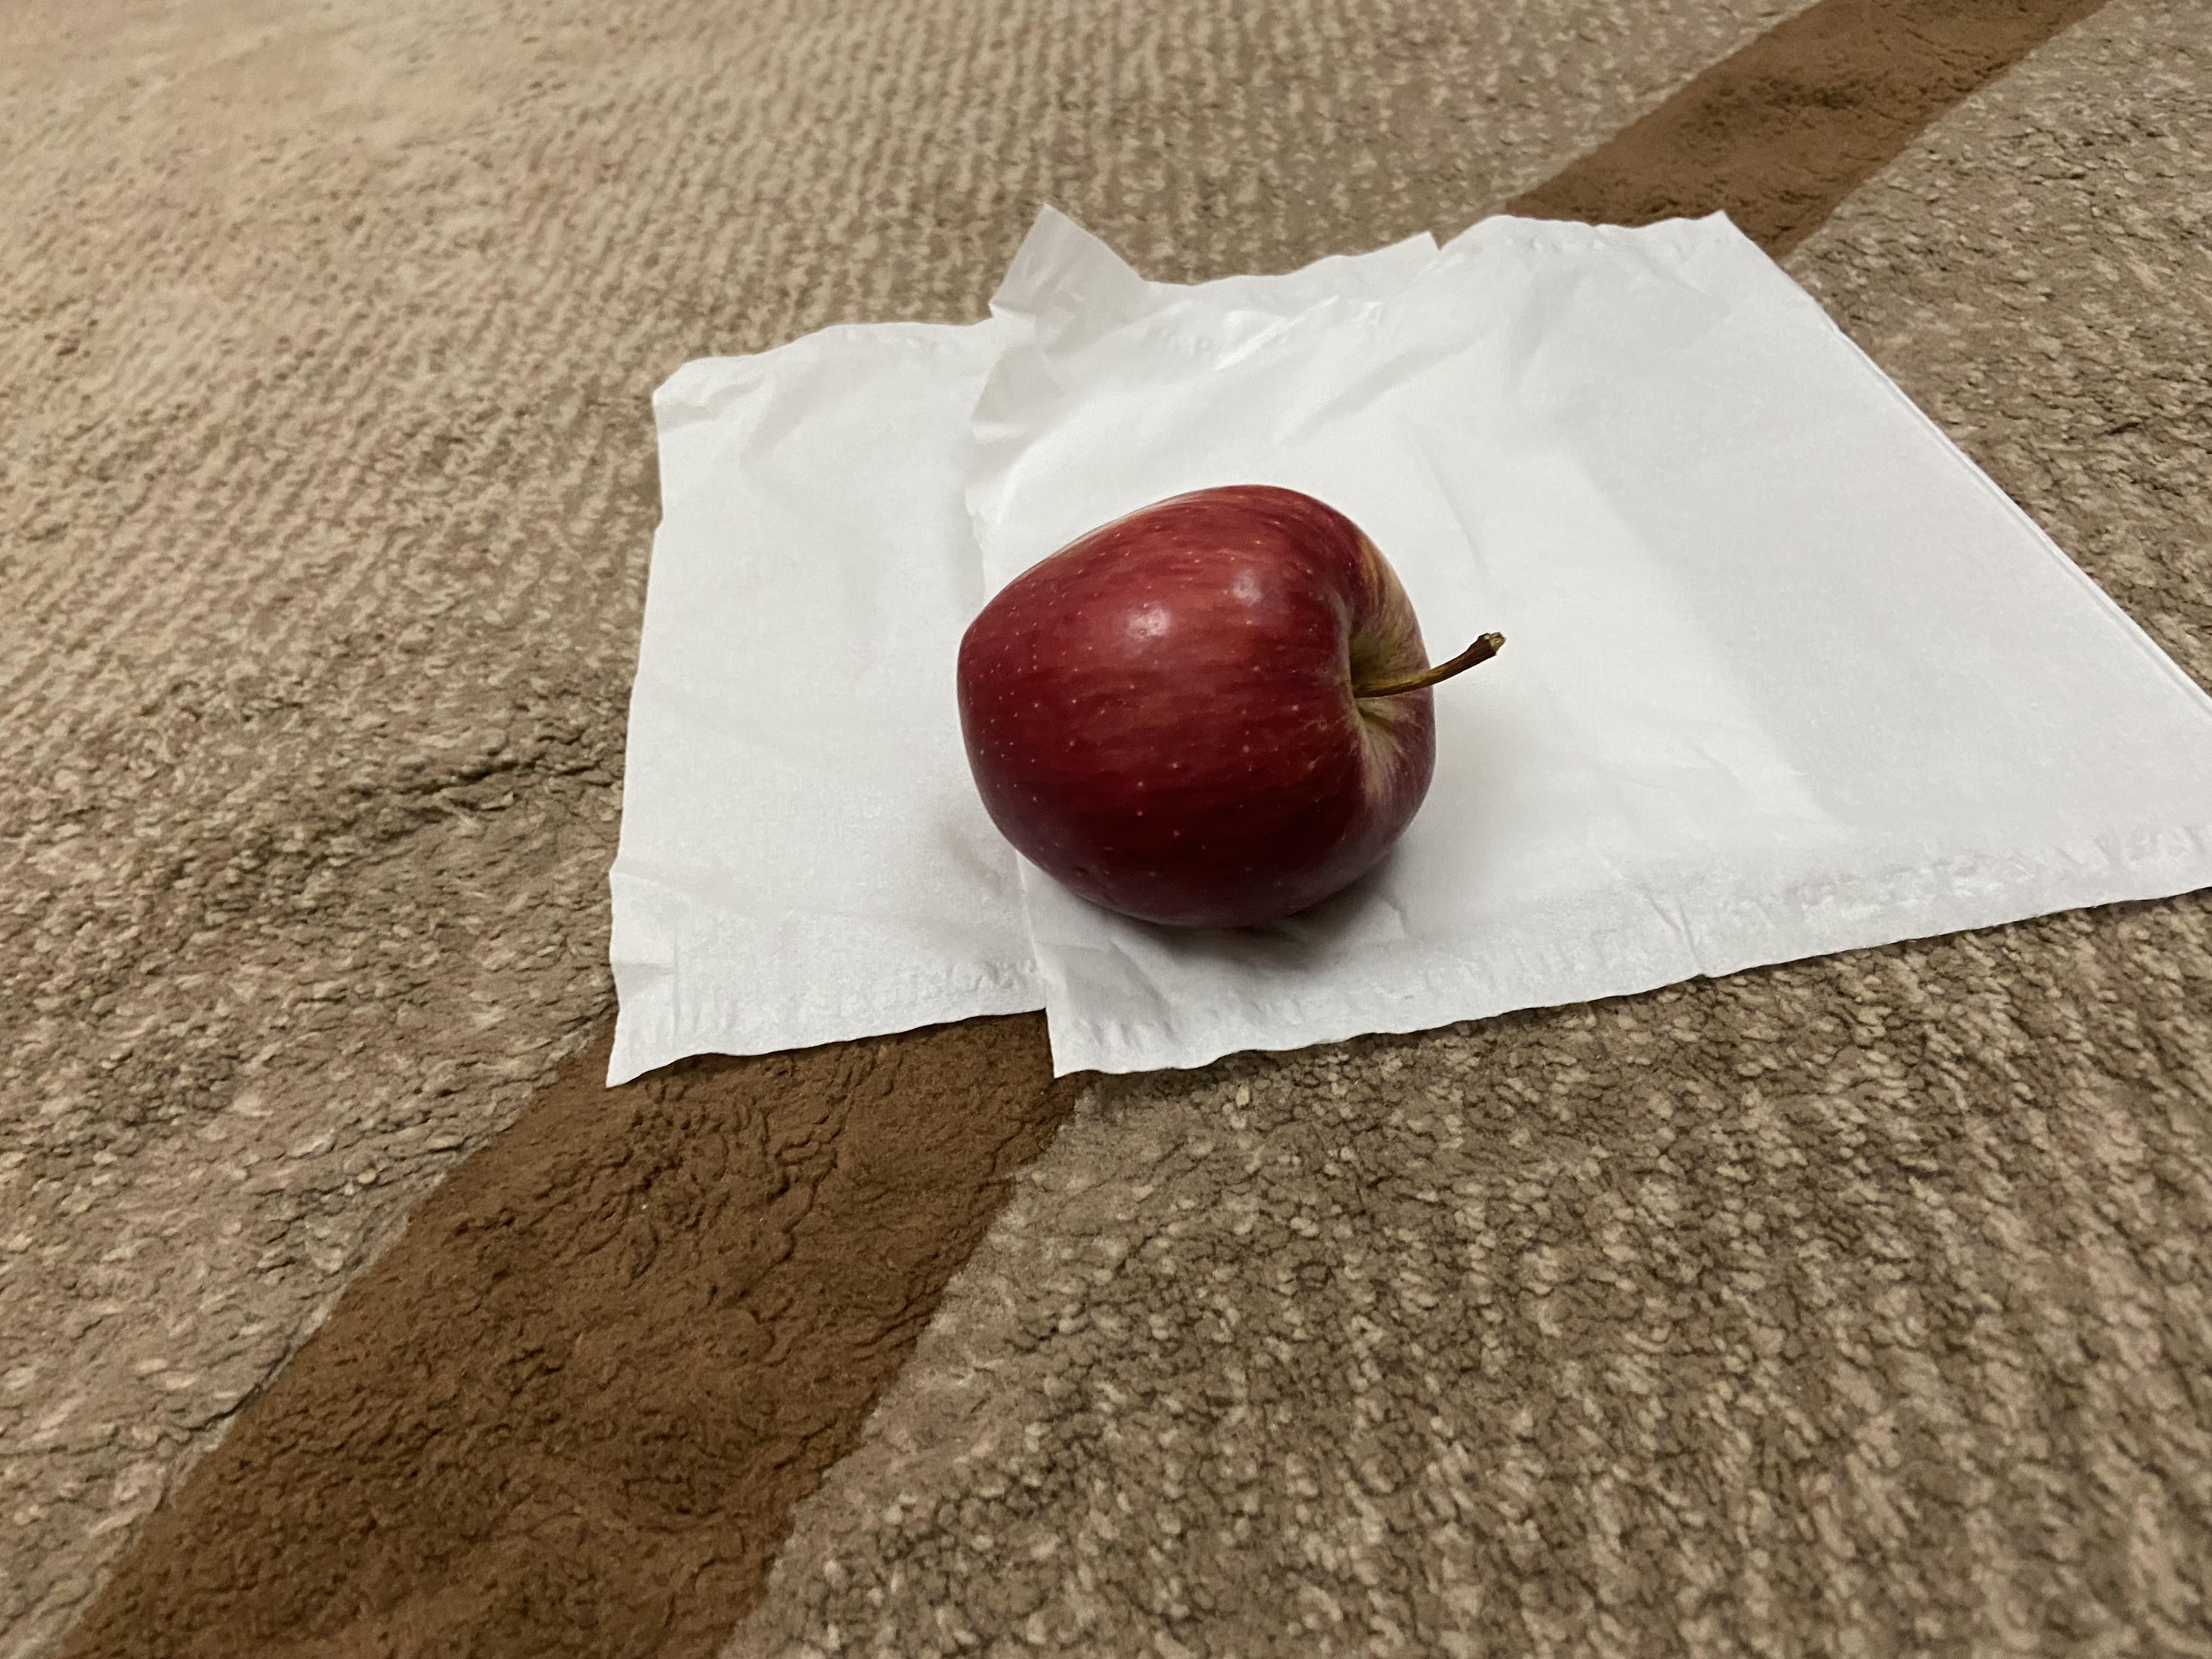Apple: (951, 483, 1510, 950)
